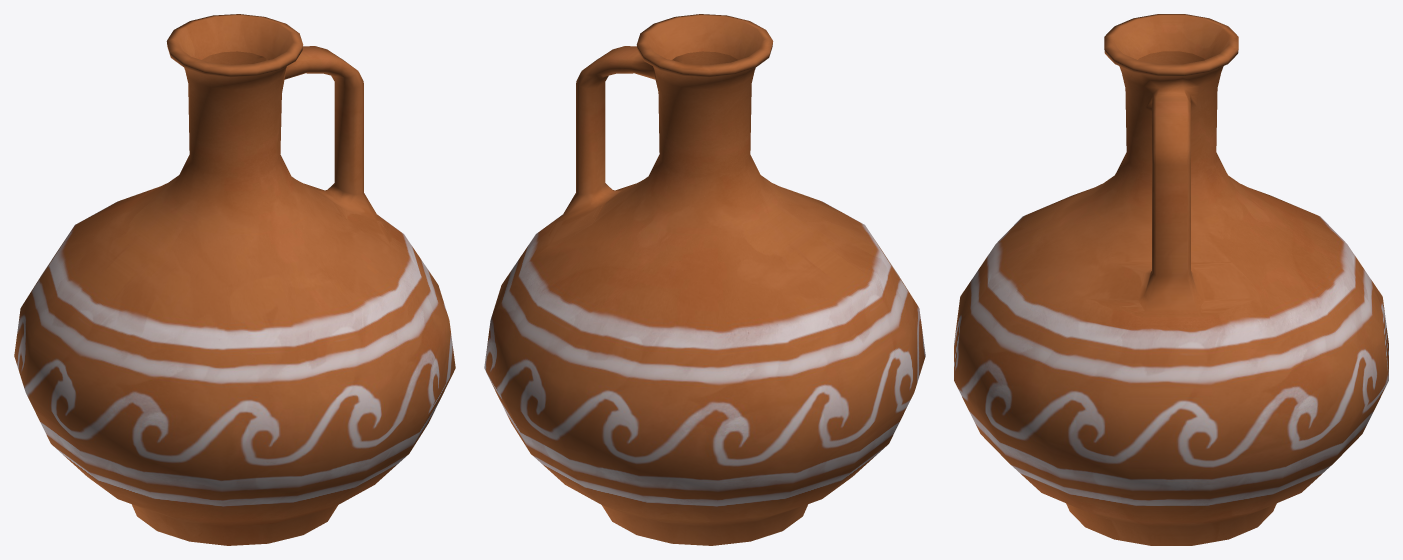
The model's file is ARC0510138.fbx.
3 views of the same model, side by side, from view 1: azimuth 30°, elevation 25°; view 2: azimuth 150°, elevation 25°; view 3: azimuth 270°, elevation 25° (orthographic).
Parts seen in each view (by area): view 1: smARC0510138; view 2: smARC0510138; view 3: smARC0510138.
Boxes of the visible parts, left/top/right/bottom form: smARC0510138: left=14, top=14, right=455, bottom=545; smARC0510138: left=484, top=14, right=925, bottom=545; smARC0510138: left=954, top=14, right=1388, bottom=545.
Bounding box in the file's own units: 51.92 × 60.99 × 51.92.
1 material, 1 textured.
